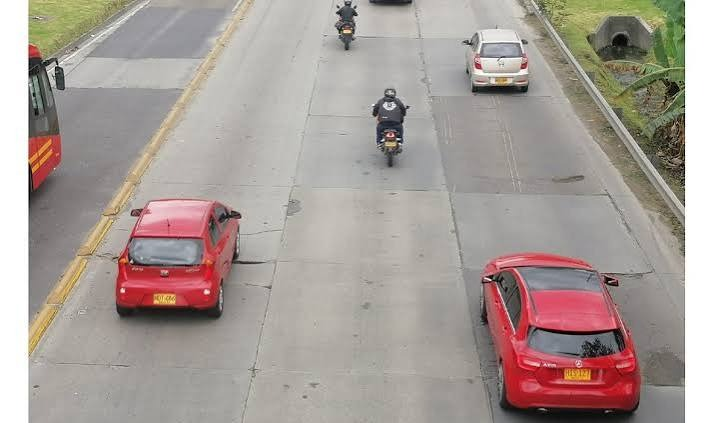car: (482, 251, 645, 417), (111, 197, 241, 317), (113, 199, 242, 315), (468, 34, 532, 91), (372, 91, 406, 152), (375, 112, 405, 161)
